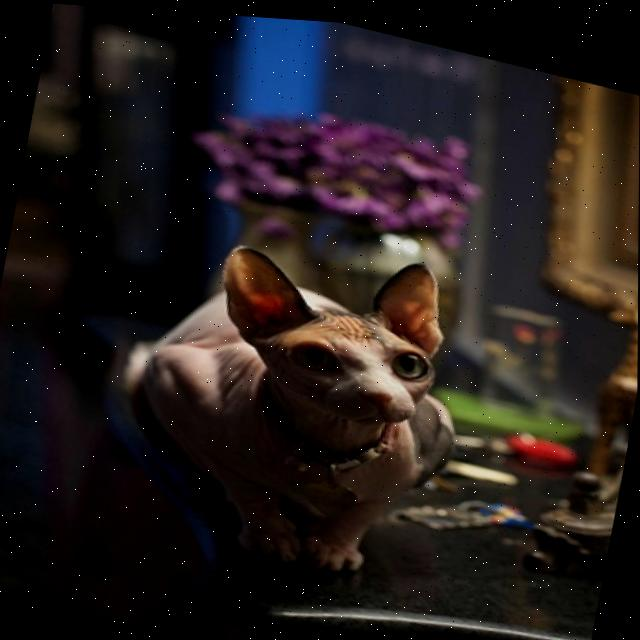Sphynx: (88, 184, 492, 604)
